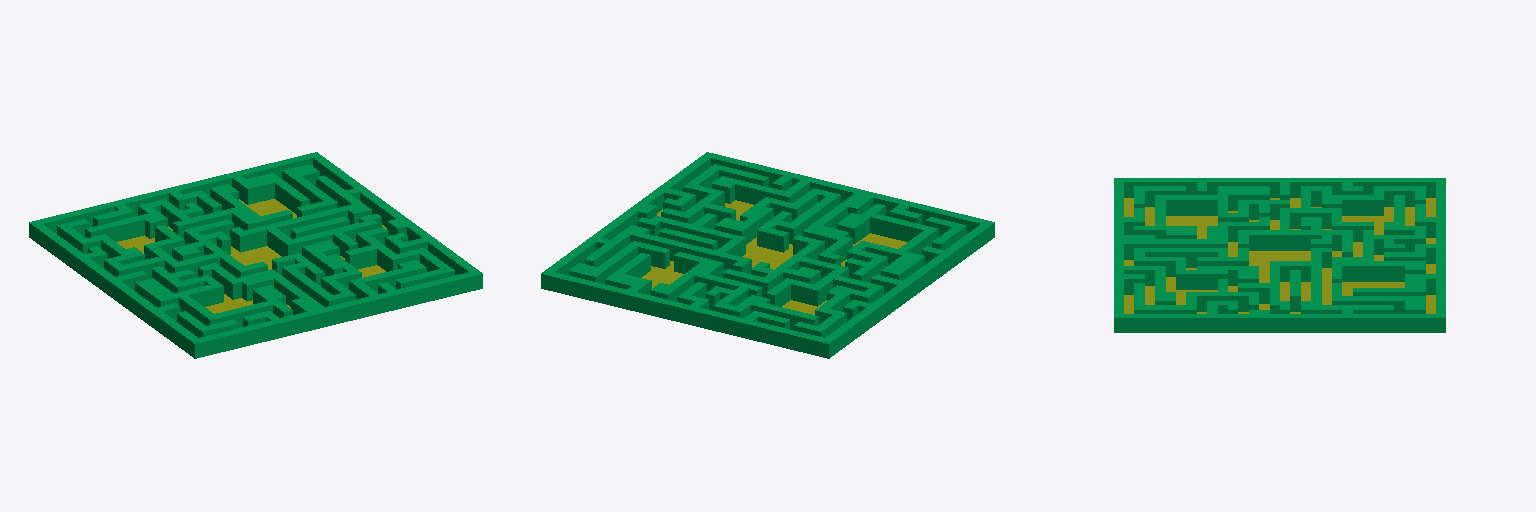
Rendered from CornMaze.obj.
3 views of the same model, side by side, from view 1: azimuth 30°, elevation 25°; view 2: azimuth 150°, elevation 25°; view 3: azimuth 270°, elevation 25° (orthographic).
Parts seen in each view (by area): view 1: Plane; view 2: Plane; view 3: Plane.
Boxes of the visible parts, box(x1,y1,x2,y2) form: Plane: box(29, 152, 482, 358); Plane: box(541, 152, 994, 358); Plane: box(1114, 178, 1445, 332).
Size of the model in its own units: 16 by 0.8479 by 16.